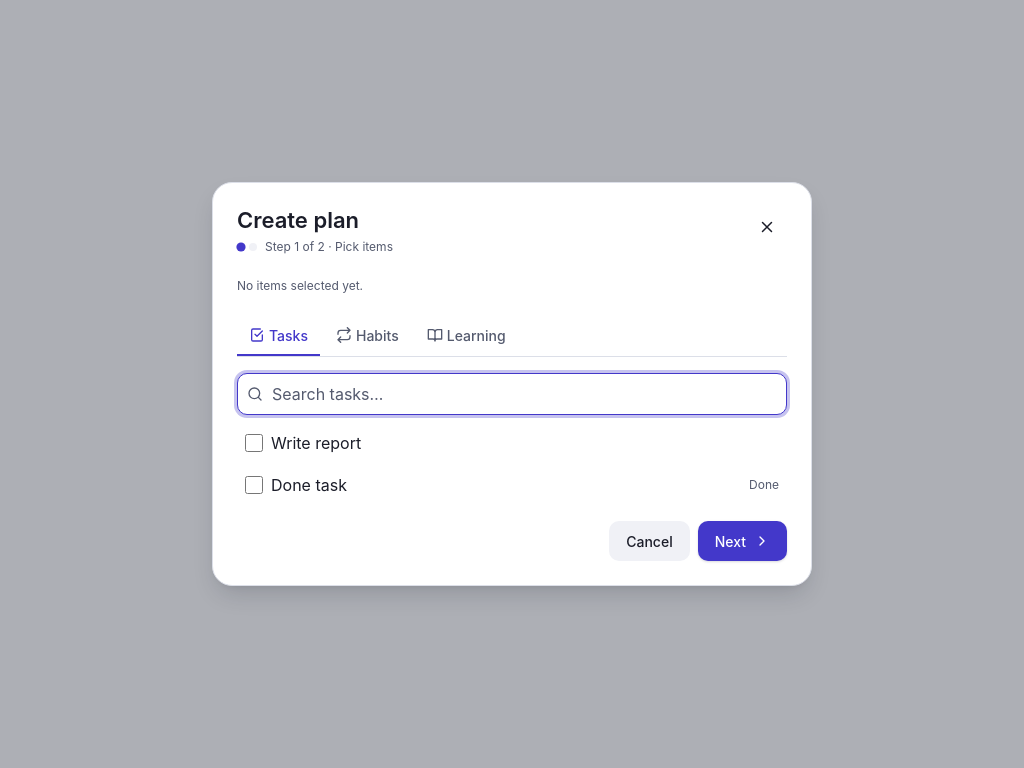
Test: PlanBuilderDialogComponent › maps server errors[] to fields; an items error returns to step 1
Click the checkbox labelled "Write report" at (254, 443), box [245,434,263,452]
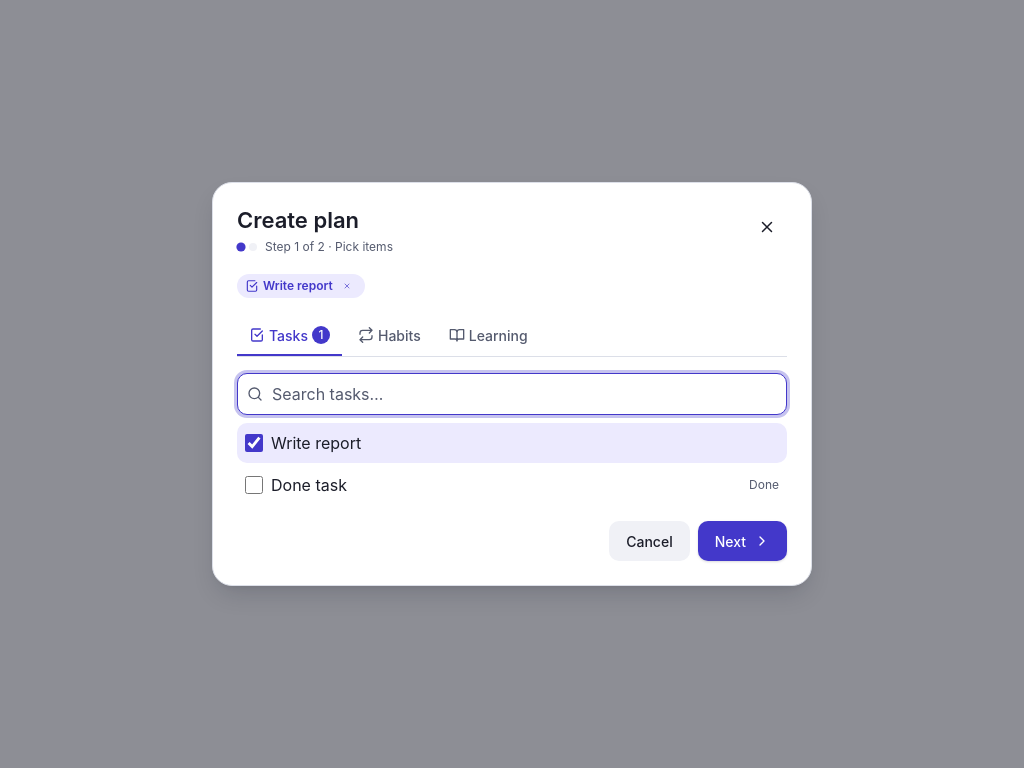
Submit the form, box [213,183,811,585]
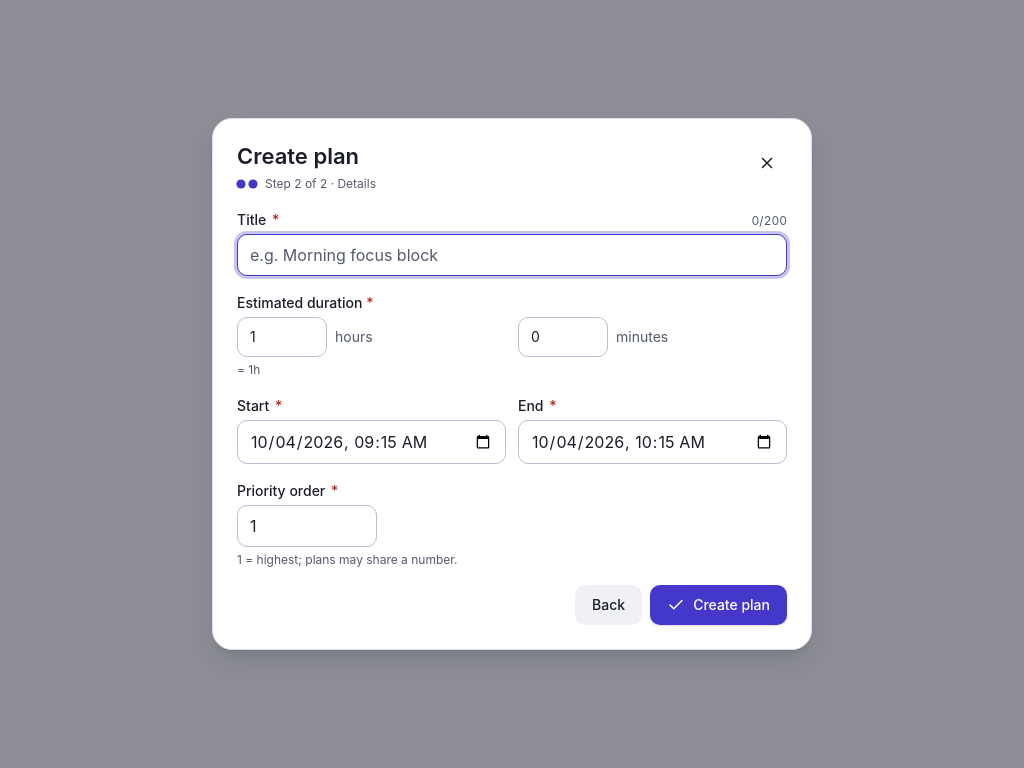
Type "Focus" into the field labelled "Title *" at (512, 255), box [237,234,787,276]
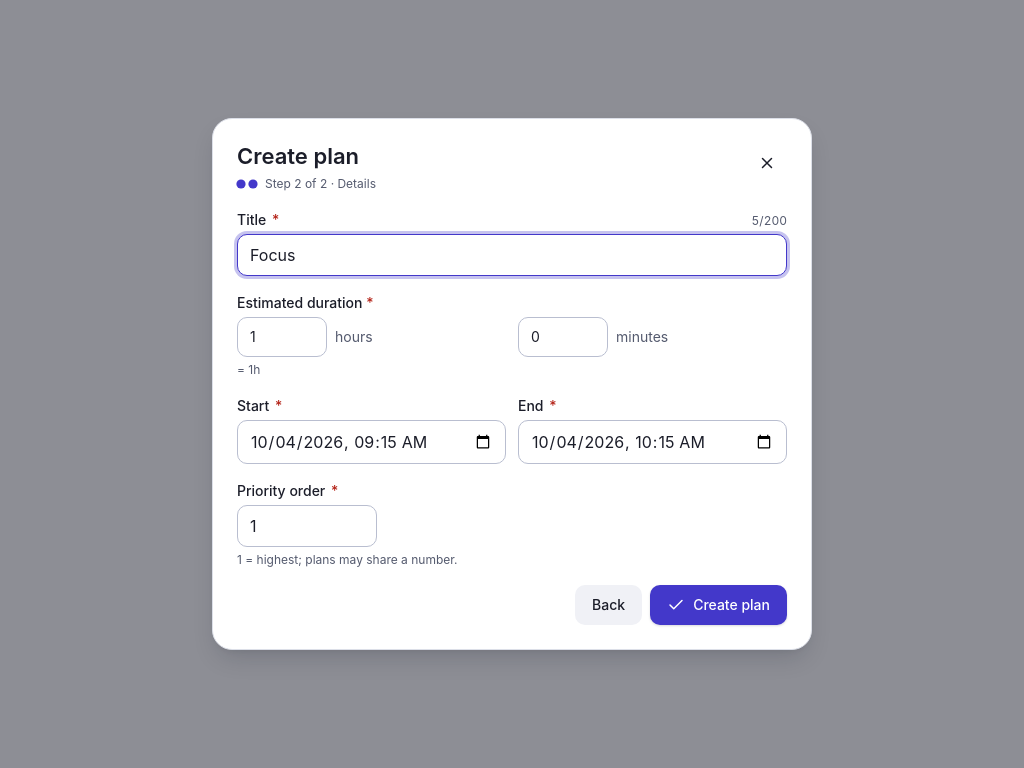
Submit the form, box [213,119,811,649]
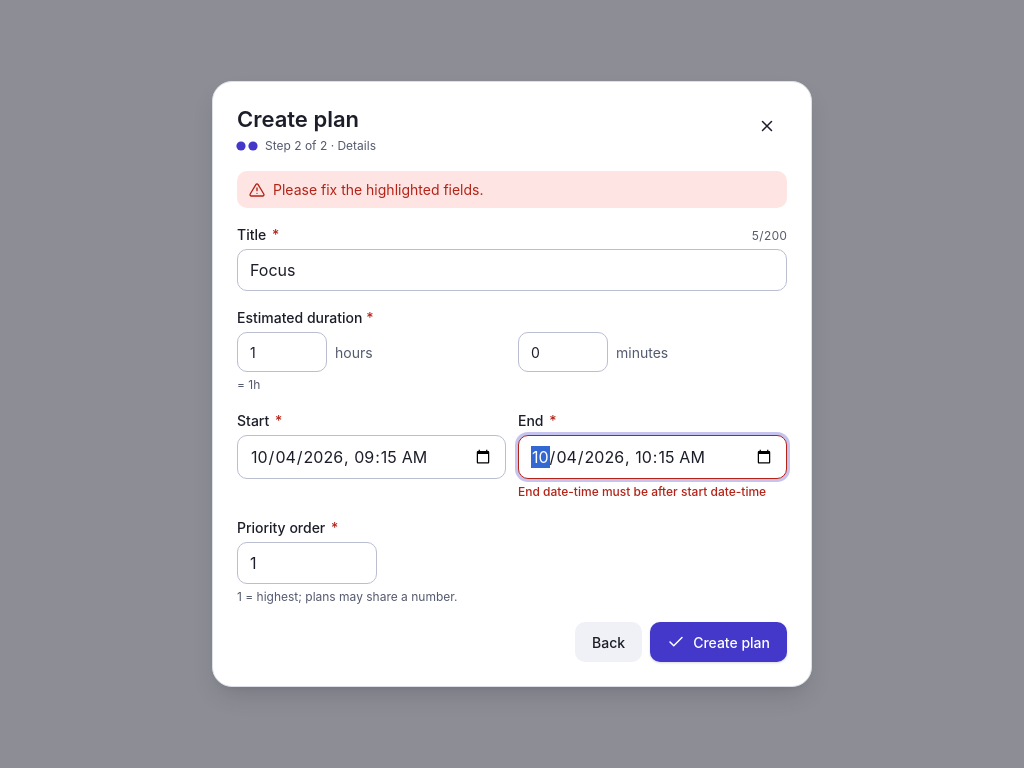
Result: the form shows "End date-time must be after start date-time" at [518,484,766,499]
Result: the form shows "Please fix the highlighted fields." at [273,181,484,198]
Submit the form, box [213,82,811,686]
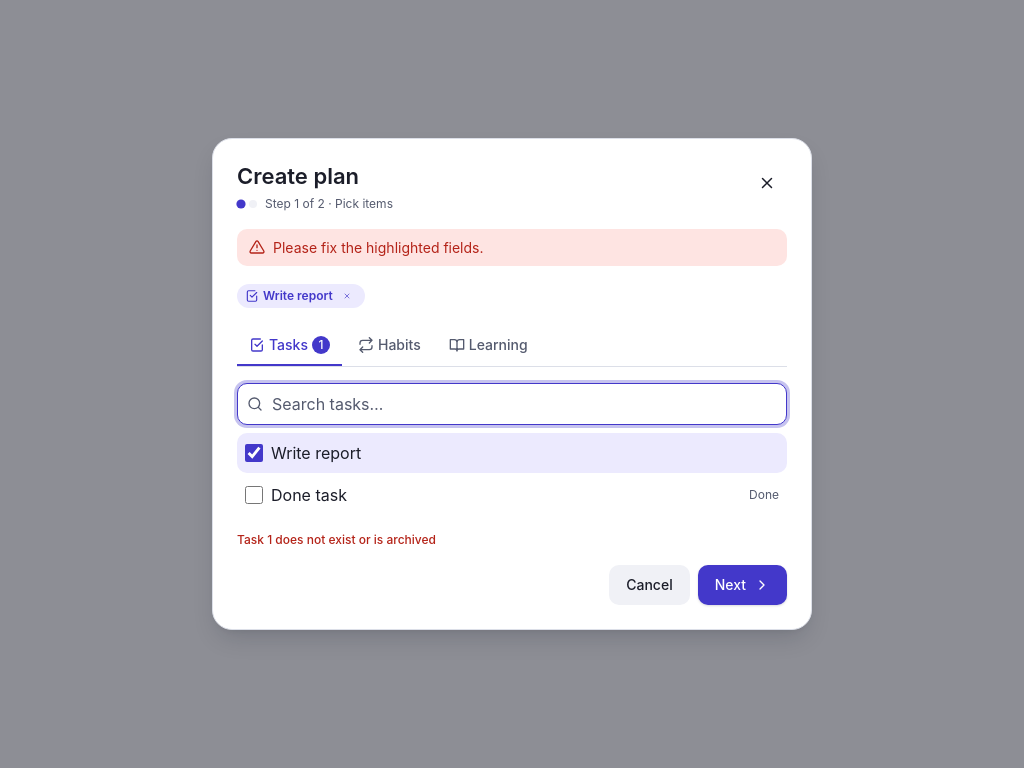
Result: the form shows "Step 1 of 2" at [265,196,393,211]
Result: the form shows "Task 1 does not exist or is archived" at [237,532,436,547]
